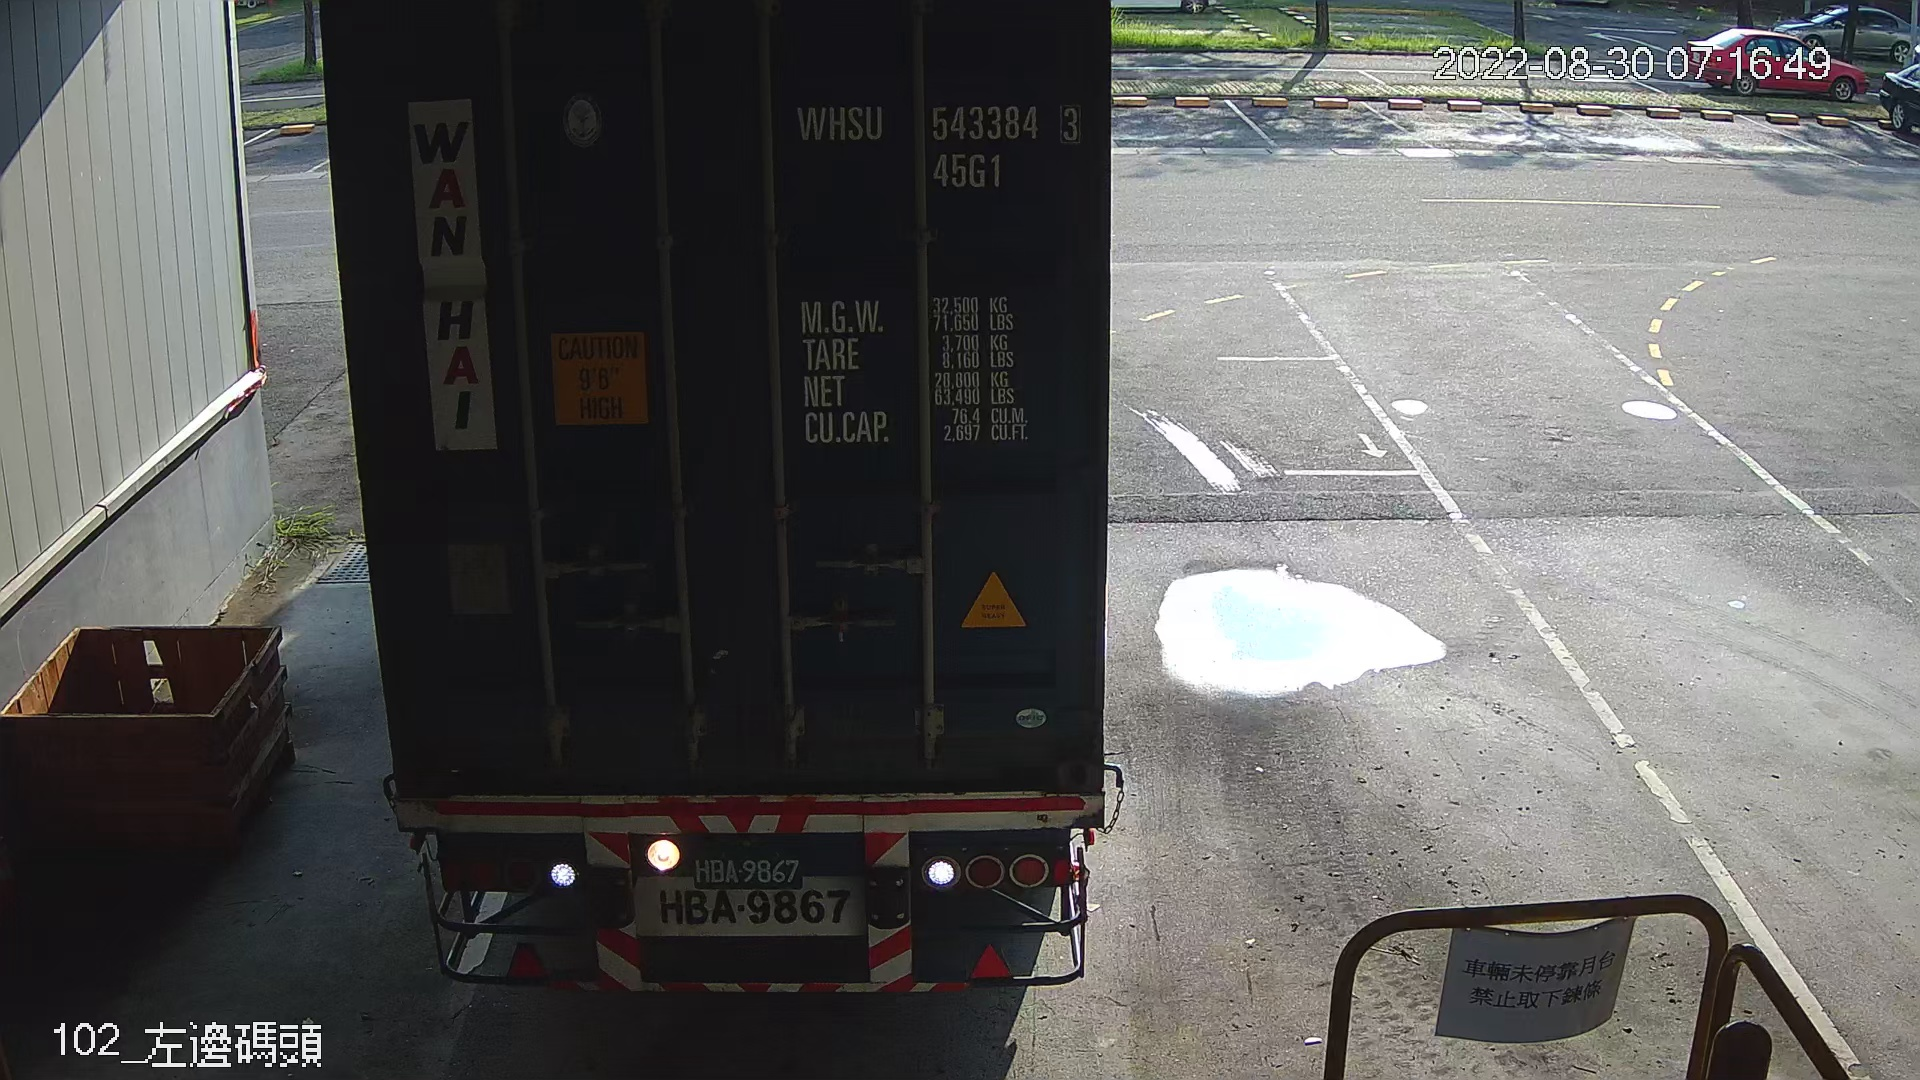container: (787, 91, 1091, 199)
